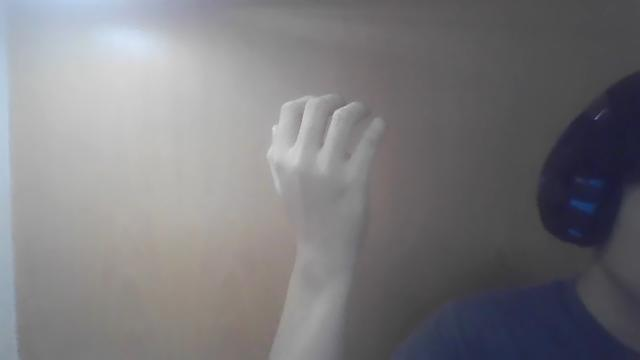backword: (264, 92, 388, 358)
